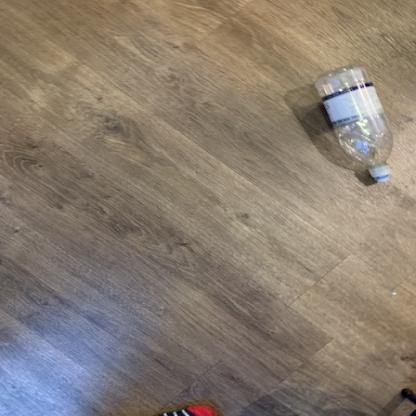trash: (312, 63, 395, 185)
